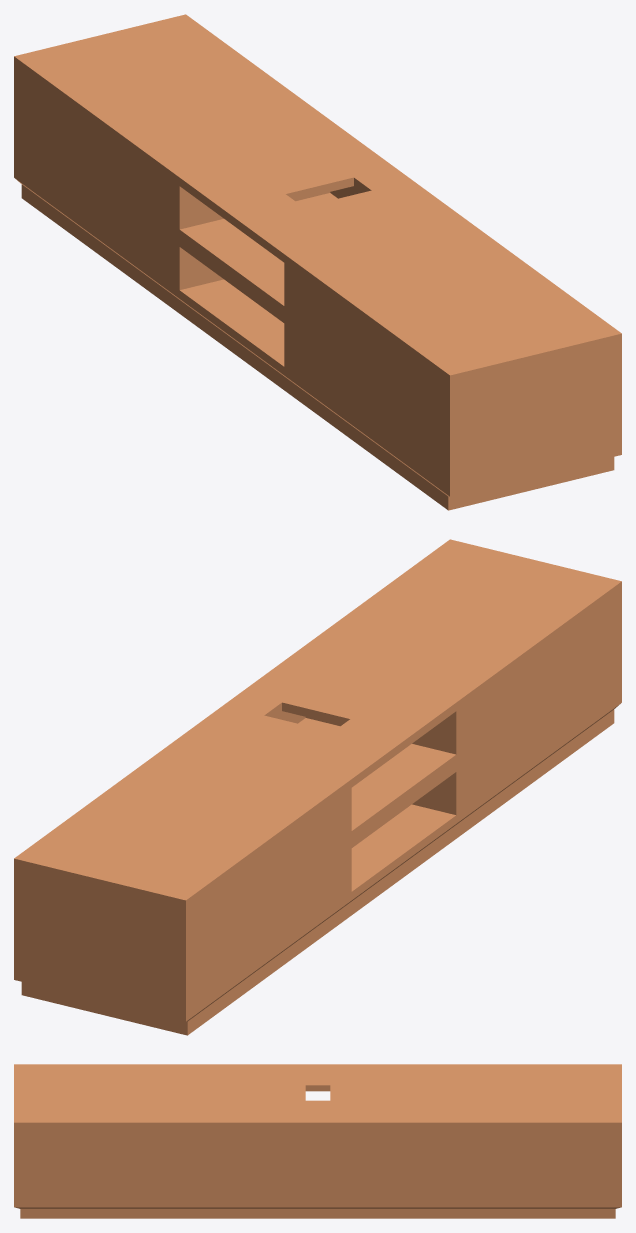
Rendered from zhuozi2.fbx.
3 renders of one model, top to bottom at view 1: azimuth 30°, elevation 25°; view 2: azimuth 150°, elevation 25°; view 3: azimuth 270°, elevation 25°, orthographic. The views are drawn at different scales.
Parts seen in each view (by area): view 1: 台子2.001; view 2: 台子2.001; view 3: 台子2.001.
Part boxes in pixels (<box>): 台子2.001: <box>14,14,621,510</box>; 台子2.001: <box>14,539,621,1035</box>; 台子2.001: <box>14,1064,621,1218</box>.
Size of the model in its own units: 15.62 by 12.09 by 68.6.
